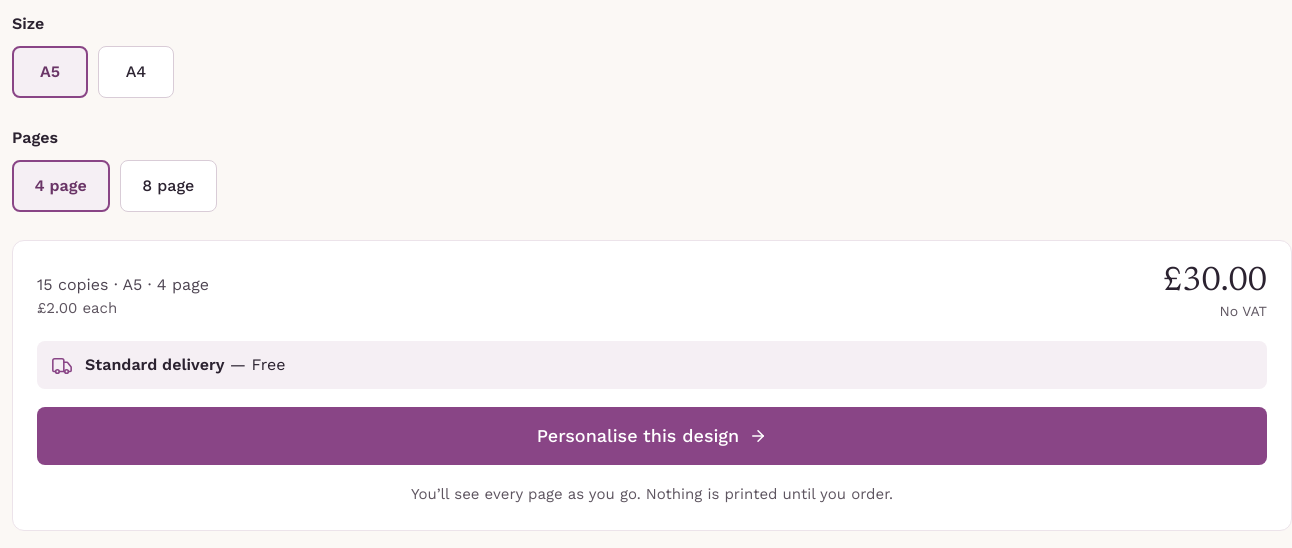
Test: TemplateBuyBox › prices the size chosen and carries it to the editor
Check: the text "£30.00" is shown, box [1163, 265, 1267, 299]
Click the button "A4".
click(136, 72)  # box [98, 46, 174, 98]
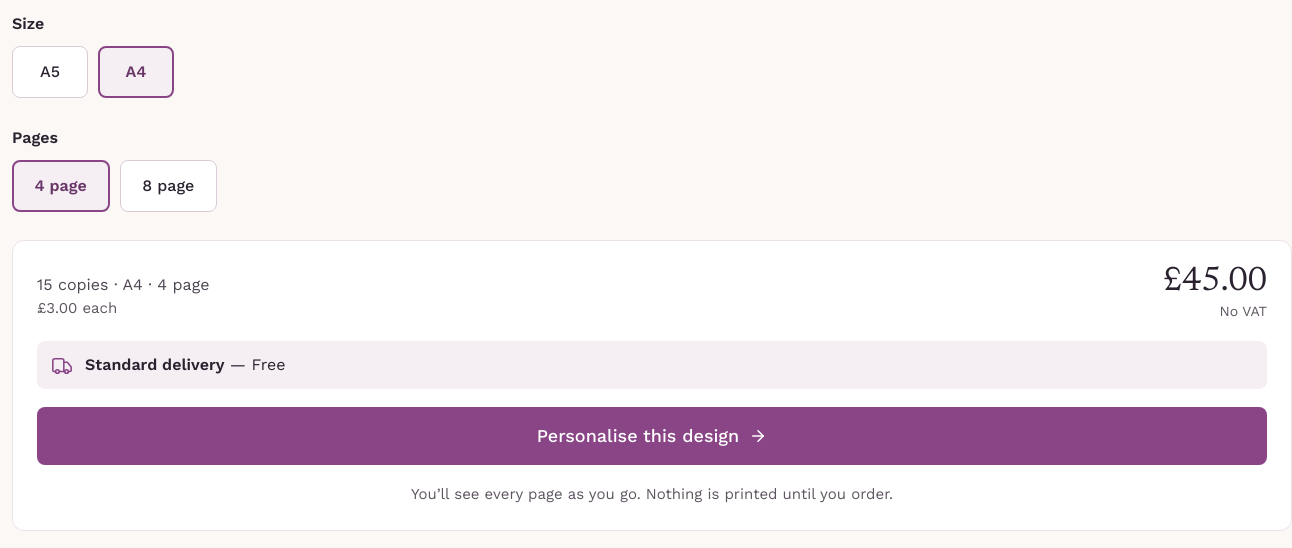
Check: the text "£45.00" is shown, box [1163, 265, 1267, 299]
